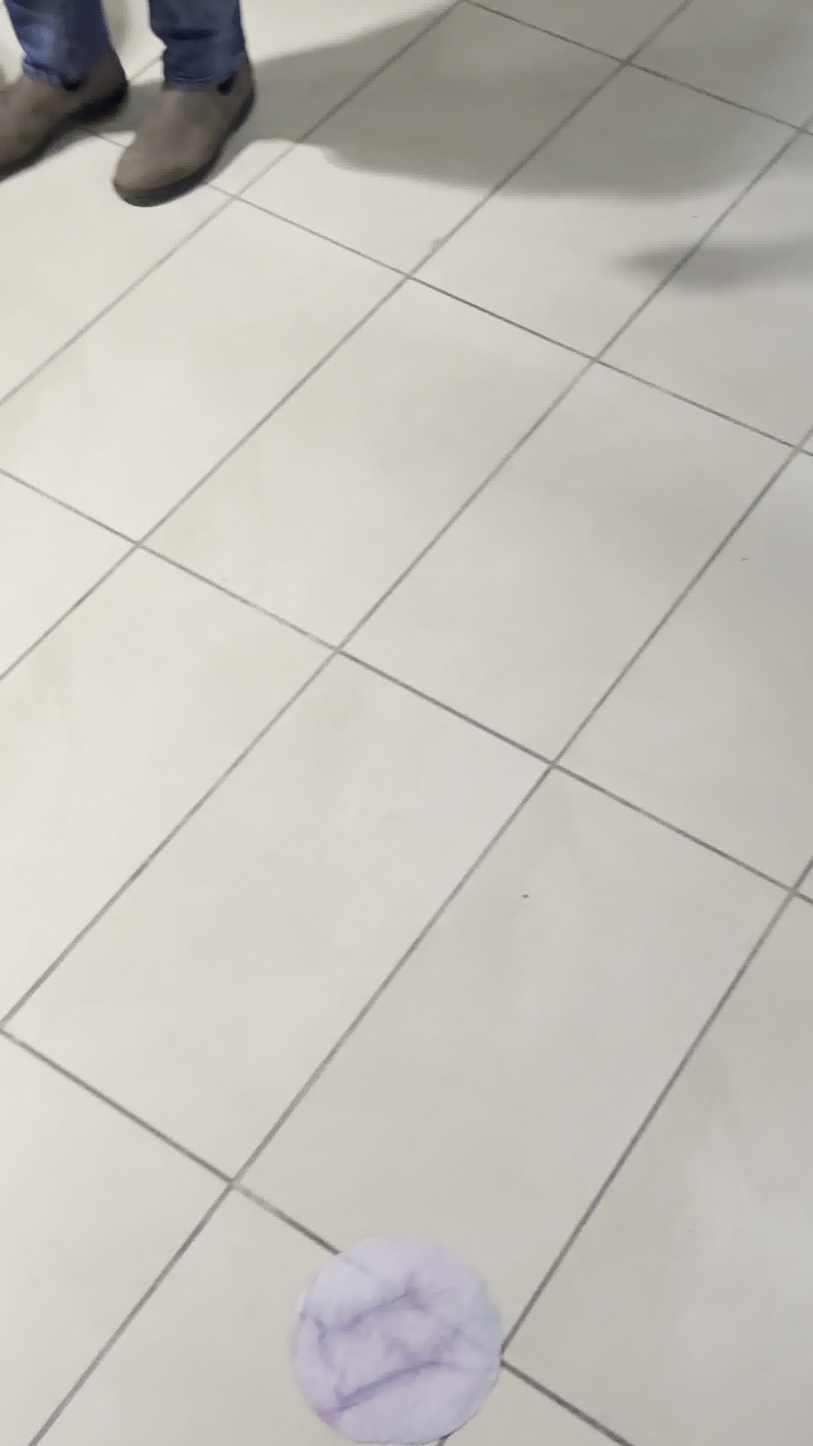Target: (287, 1236, 502, 1446)
